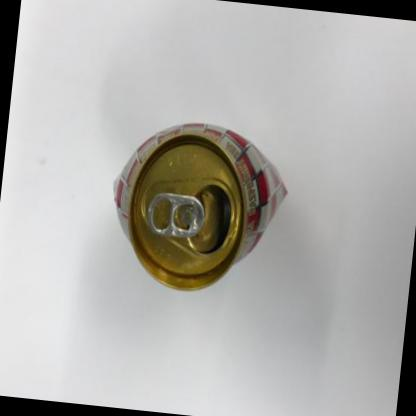Metal: (113, 123, 287, 290)
